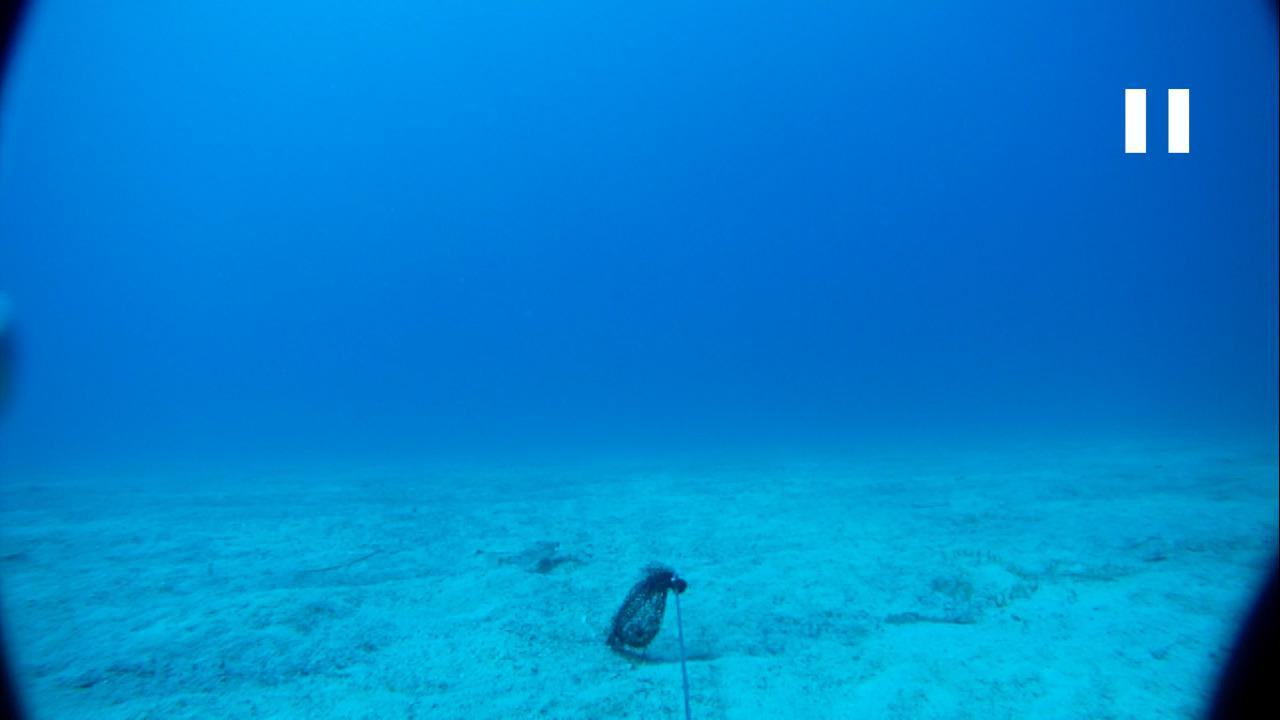dactylopterus: (470, 533, 589, 580)
